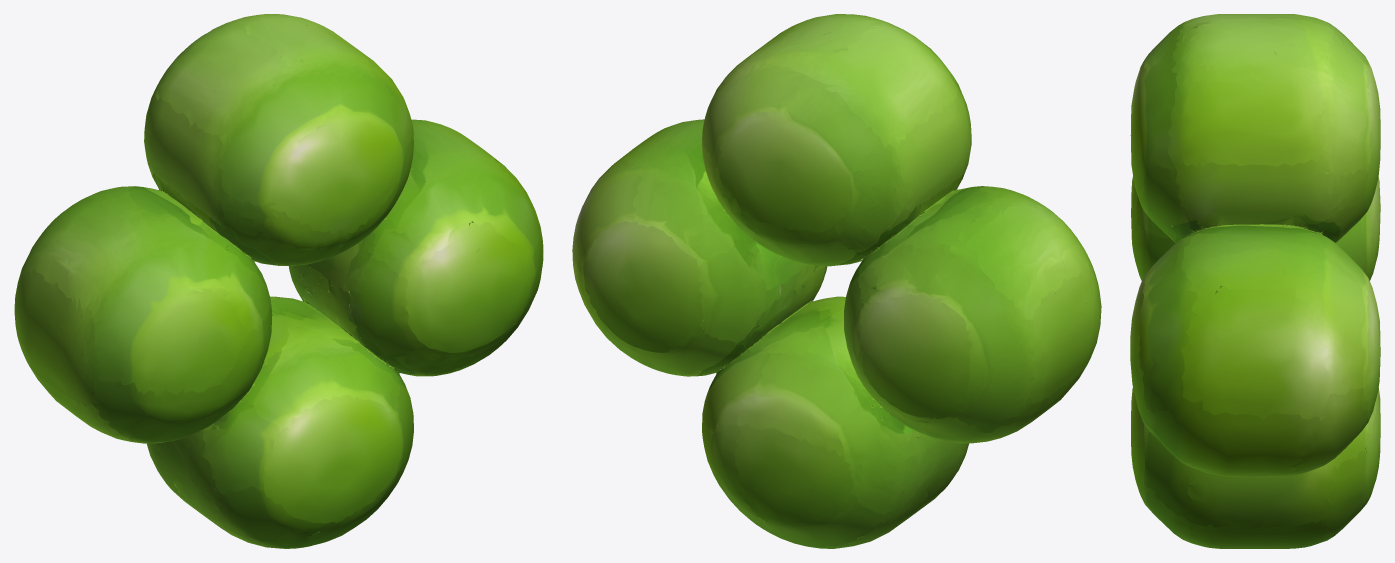
Rendered from peas.glb.
3 renders of one model, left to right at view 1: azimuth 30°, elevation 25°; view 2: azimuth 150°, elevation 25°; view 3: azimuth 270°, elevation 25°, orthographic. The views are drawn at different scales.
Size of the model in its own units: 0.12 by 0.1198 by 0.0533.
1 material, 1 textured.
